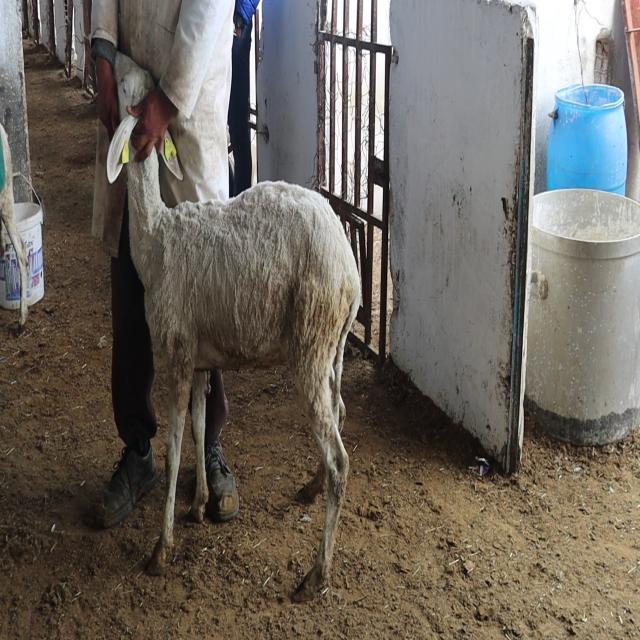Score_1: (107, 53, 360, 599)
